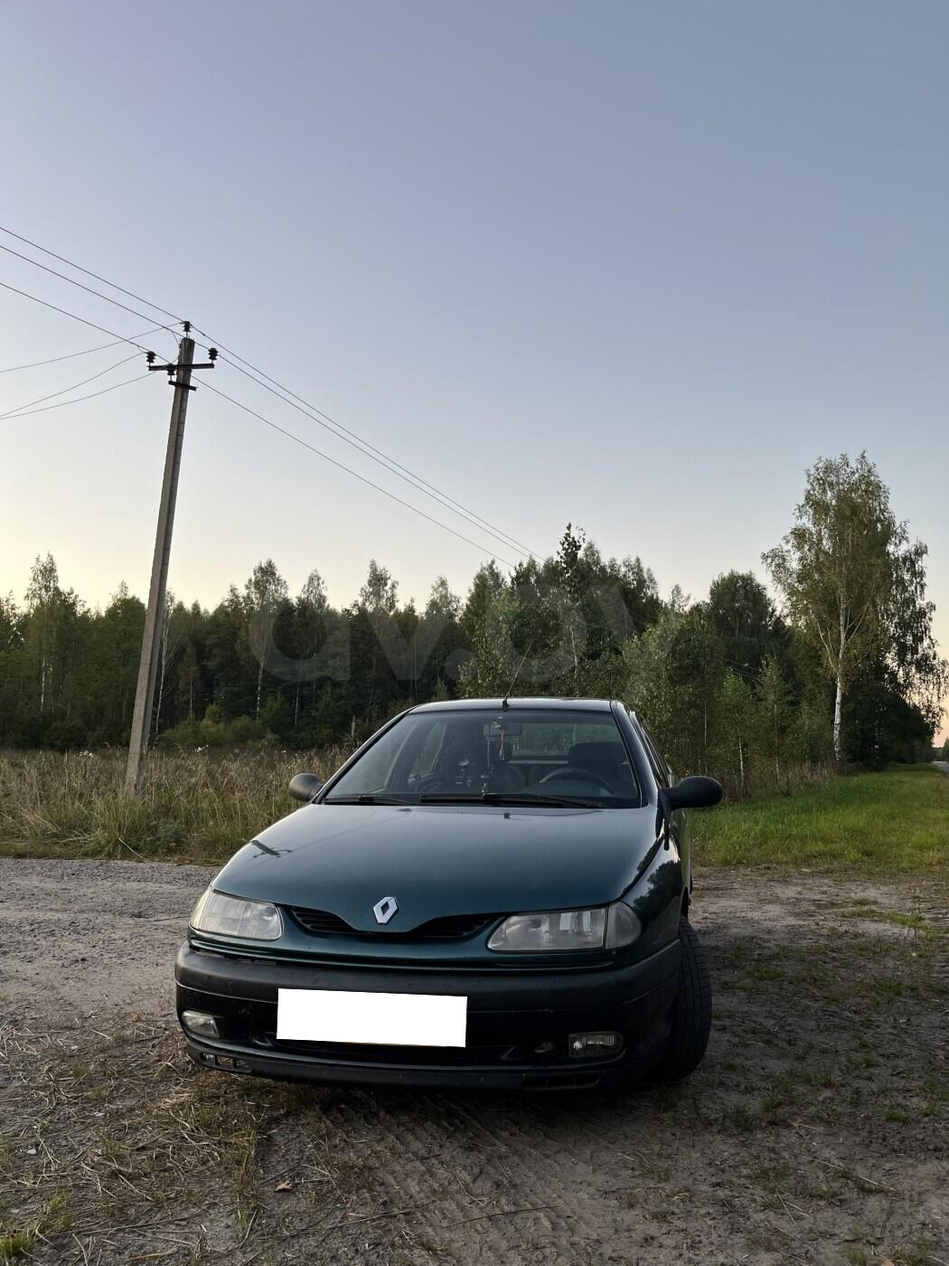Lahuna_1993-1999: (168, 687, 727, 1103)
